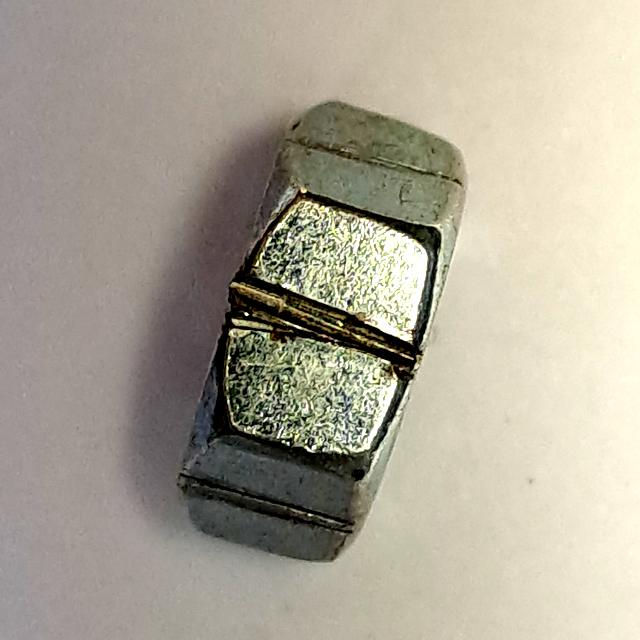Side_Scratches: (162, 79, 482, 576)
